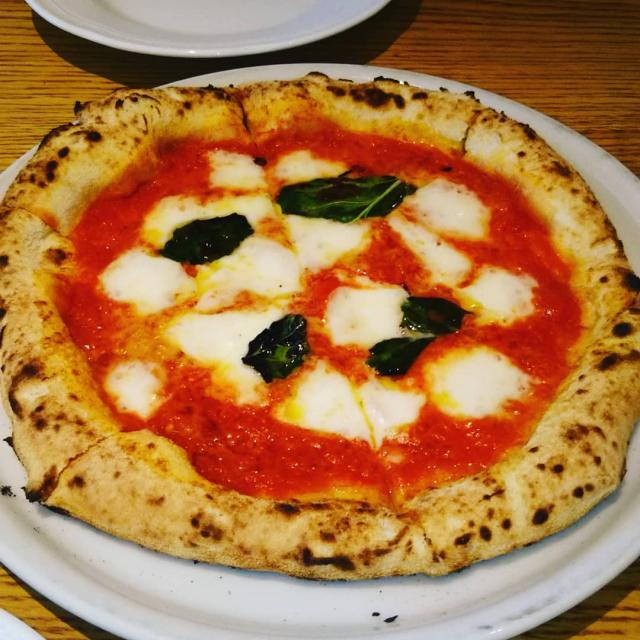basil: (276, 172, 416, 222), (160, 212, 254, 264), (242, 315, 310, 383), (401, 298, 466, 334)
pizza: (0, 62, 640, 590)
